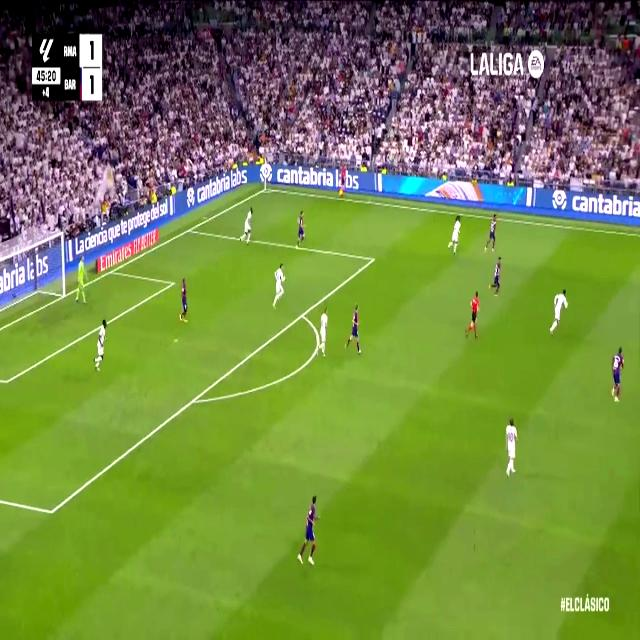bigarea_bottom_inner: (46, 496, 58, 526)
bigarea_top_inner: (368, 250, 376, 268)
bigarea_top_outter: (186, 221, 194, 237)
bottom_arc_area_intersection: (188, 388, 200, 410)
corner: (260, 182, 270, 195)
smallarea_bottom_inner: (2, 370, 11, 392)
smallarea_top_inner: (169, 274, 177, 290)
smallarea_top_outter: (108, 264, 116, 278)
top_arc_area_intersection: (297, 304, 307, 324)
